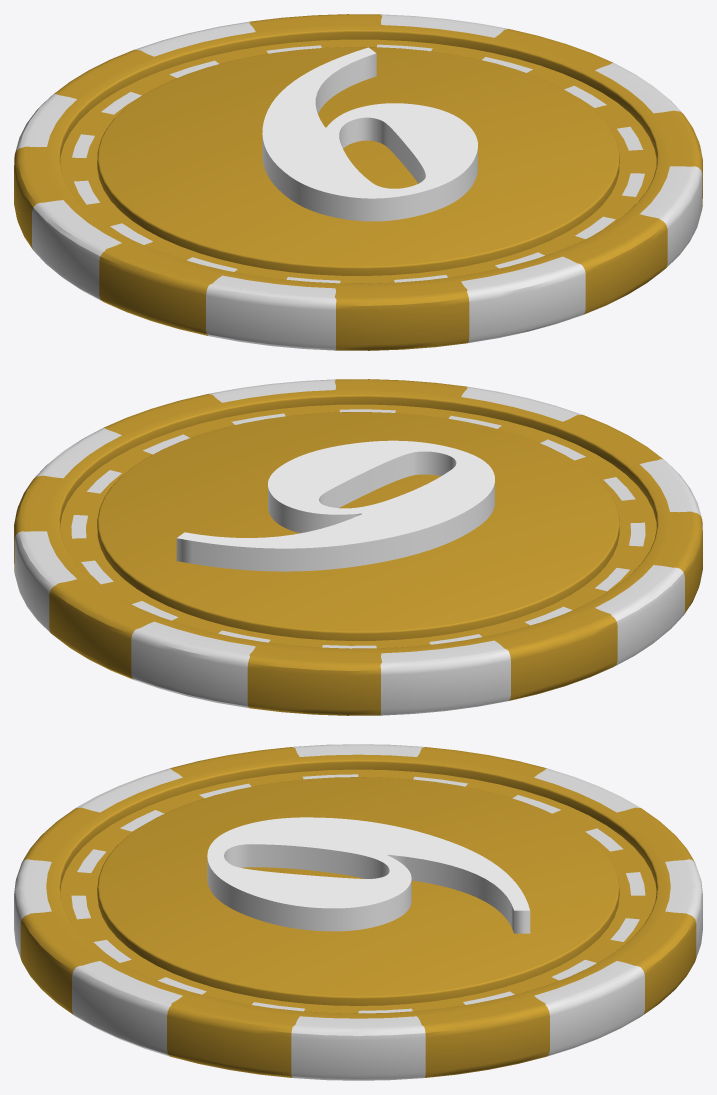
The model's file is 6_coin.glb.
The picture shows the model from 3 angles, top to bottom: view 1: azimuth 30°, elevation 25°; view 2: azimuth 150°, elevation 25°; view 3: azimuth 270°, elevation 25°; orthographic projection.
Parts seen in each view (by area): view 1: Chip.015, Text; view 2: Chip.015, Text; view 3: Chip.015, Text.
Part boxes in pixels (x1,y1,x2,y2): Chip.015: (14,14,702,350); Text: (262,47,477,221); Chip.015: (14,379,702,715); Text: (176,440,494,571); Chip.015: (14,744,702,1080); Text: (207,817,530,933).
Size of the model in its own units: 5.28 by 0.8 by 5.28.
